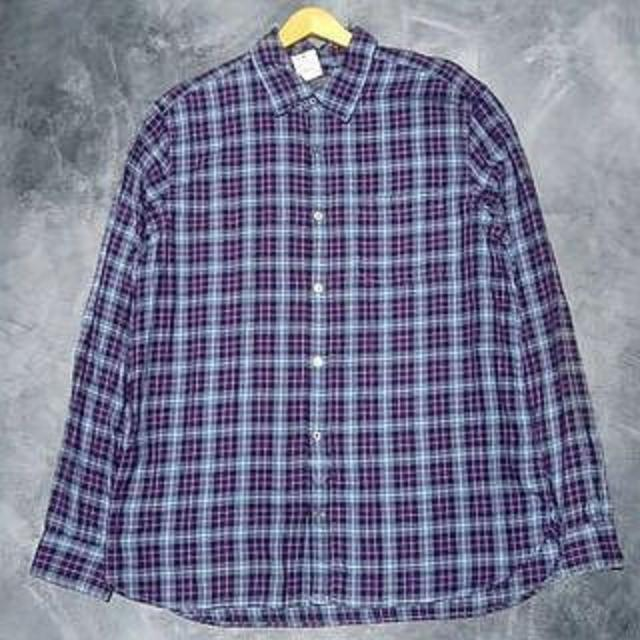SHIRT: (30, 18, 636, 629)
